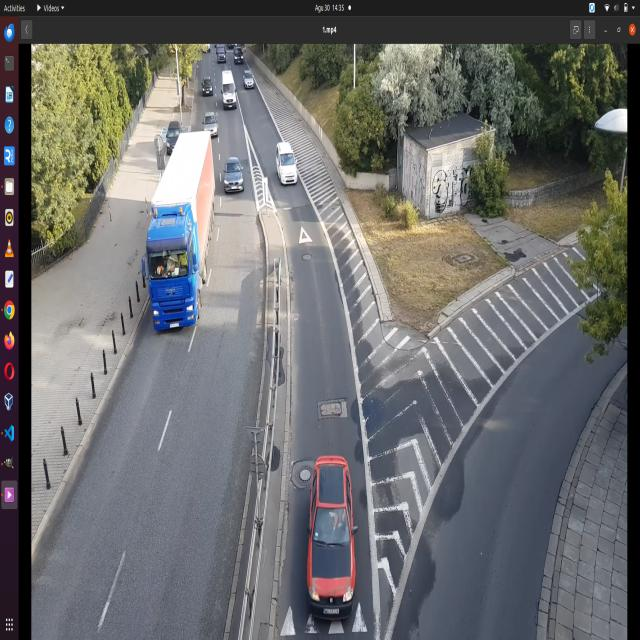person_without_seatbelt: (177, 249, 189, 273)
